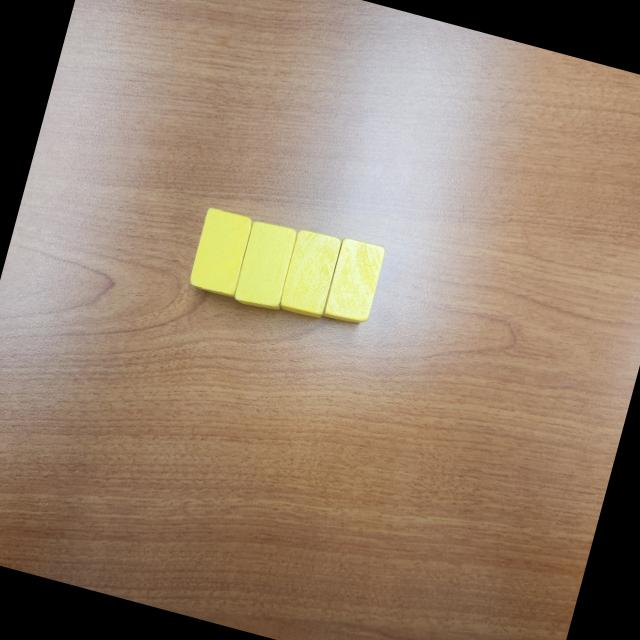yellow: (230, 218, 300, 315), (186, 206, 256, 300), (276, 226, 344, 322), (322, 236, 386, 328)
